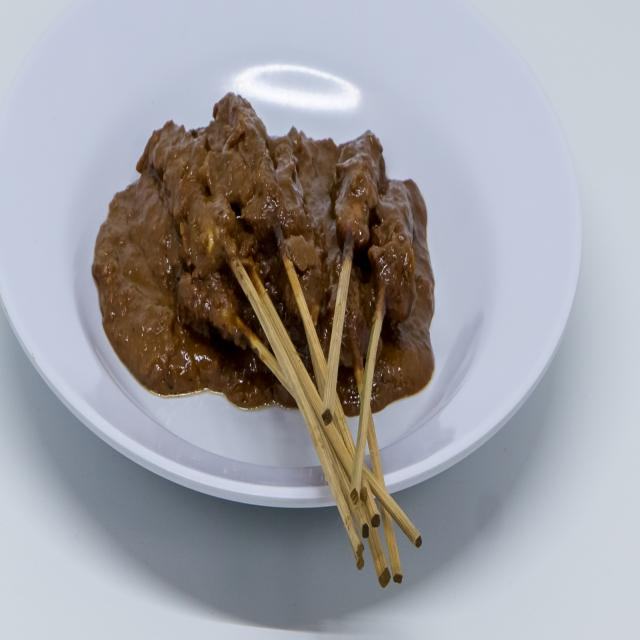Sate-Ayam: (92, 83, 436, 427)
